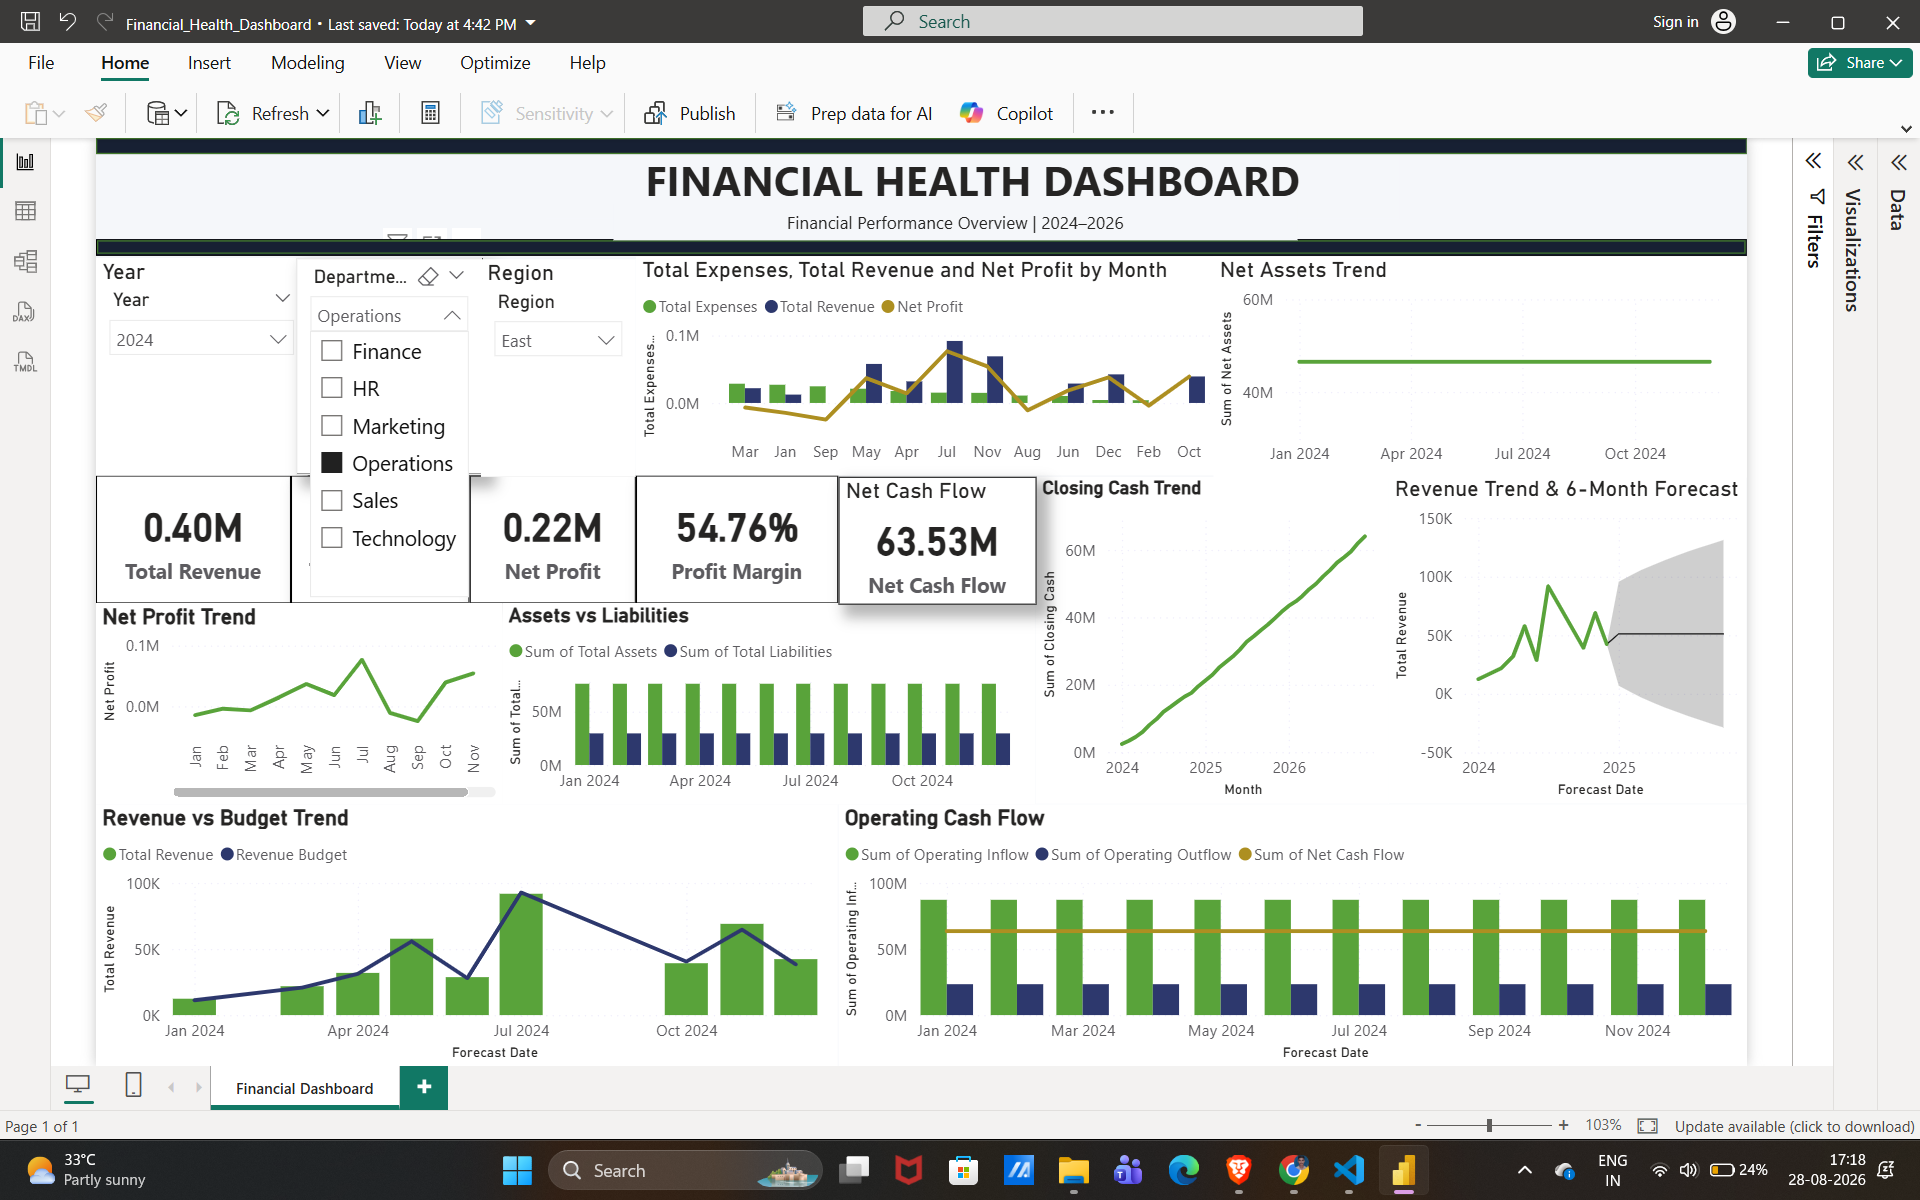

What the dashboard file says about the page in this screenshot:
{"tool":"powerbi","page":{"name":"Financial Dashboard","canvas":[1280,720],"ordinal":0},"visuals":[{"type":"card","fields":{"Values":["Financial Measures.Total Revenue"]},"box":[0,261.6,151.2,98.8],"z":0},{"type":"card","fields":{"Values":["Financial Measures.Total Expenses"]},"box":[151.2,261.6,138.4,98.8],"z":1000},{"type":"card","fields":{"Values":["Financial Measures.Net Profit"]},"box":[289.5,261.6,129.1,98.8],"z":2000},{"type":"card","fields":{"Values":["Financial Measures.Profit Margin"]},"box":[418.6,261.6,157,98.8],"z":3000},{"type":"slicer","title":"Year","fields":{"Values":["DimDate.Year"]},"box":[0,93,164,168.6],"z":4000},{"type":"lineClusteredColumnComboChart","fields":{"Category":["DimDate.Month"],"Y":["Financial Measures.Total Expenses","Financial Measures.Total Revenue"],"Y2":["Financial Measures.Net Profit"]},"box":[418.6,91.9,459.3,169.8],"z":5000},{"type":"lineChart","title":" Net Profit Trend","fields":{"Category":["DimDate.Month"],"Y":["Financial Measures.Net Profit"]},"box":[0,360.5,315.1,155.8],"z":6000},{"type":"clusteredColumnChart","title":"Assets vs Liabilities","fields":{"Y":["Sum(BalanceSheet.Total Assets)","Sum(BalanceSheet.Total Liabilities)"],"Category":["DimDate.Forecast Date"]},"box":[315.1,360.5,414,155.8],"z":7000},{"type":"lineChart","title":"Net Assets Trend","fields":{"Y":["Sum(BalanceSheet.Net Assets)"],"Category":["DimDate.Forecast Date"]},"box":[866.3,91.9,414,170.9],"z":8000},{"type":"lineClusteredColumnComboChart","title":"Operating Cash Flow","fields":{"Y":["Sum(CashFlow.Operating Inflow)","Sum(CashFlow.Operating Outflow)"],"Y2":["Sum(CashFlow.Net Cash Flow)"],"Category":["DimDate.Forecast Date"]},"box":[575.6,516.3,704.7,203.5],"z":9000},{"type":"lineChart","title":"Closing Cash Trend","fields":{"Category":["CashFlow.Month.Variation.Date Hierarchy.Month"],"Y":["Sum(CashFlow.Closing Cash)"]},"box":[729.1,262.8,273.3,253.5],"z":10000},{"type":"card","title":"Net Cash Flow","fields":{"Values":["Sum(CashFlow.Net Cash Flow)"]},"box":[575.6,262.8,153.5,98.8],"z":11000},{"type":"slicer","title":"Department","fields":{"Values":["DimDepartment.Department"]},"box":[154.9,93.5,144.5,168.4],"z":12000},{"type":"slicer","title":"Region","fields":{"Values":["DimRegion.Region"]},"box":[298.8,94.2,119.8,168.6],"z":13000},{"type":"lineClusteredColumnComboChart","title":"Revenue vs Budget Trend","fields":{"Y":["Financial Measures.Total Revenue"],"Y2":["Financial Measures.Revenue Budget"],"Category":["DimDate.Forecast Date"]},"box":[0,516.3,575.6,203.5],"z":14000},{"type":"lineChart","title":"Revenue Trend & 6-Month Forecast","fields":{"Y":["Financial Measures.Total Revenue"],"Category":["DimDate.Forecast Date"]},"box":[1002.3,261.6,277.9,254.7],"z":15000},{"type":"textbox","box":[348.8,5.8,661.6,57],"z":16000},{"type":"shape","box":[0,0,1280.4,12.5],"z":17000},{"type":"shape","box":[0,79,1280.4,12.5],"z":18000},{"type":"textbox","box":[401.2,51.2,530.2,27.9],"z":18001}]}

Visuals, with their boxes on the page's 1280x720 design canvas (x1, y1, x2, y2). These are canvas units, not pixel positions in the 1920x1200 screenshot, which may show the page scaled, cropped or inside an application window:
card - Financial Measures.Total Revenue: bbox=[0, 262, 151, 360]
card - Financial Measures.Total Expenses: bbox=[151, 262, 290, 360]
card - Financial Measures.Net Profit: bbox=[290, 262, 419, 360]
card - Financial Measures.Profit Margin: bbox=[419, 262, 576, 360]
"Year" slicer: bbox=[0, 93, 164, 262]
lineClusteredColumnComboChart - DimDate.Month x Financial Measures.Total Expenses: bbox=[419, 92, 878, 262]
" Net Profit Trend" lineChart: bbox=[0, 360, 315, 516]
"Assets vs Liabilities" clusteredColumnChart: bbox=[315, 360, 729, 516]
"Net Assets Trend" lineChart: bbox=[866, 92, 1280, 263]
"Operating Cash Flow" lineClusteredColumnComboChart: bbox=[576, 516, 1280, 720]
"Closing Cash Trend" lineChart: bbox=[729, 263, 1002, 516]
"Net Cash Flow" card: bbox=[576, 263, 729, 362]
"Department" slicer: bbox=[155, 94, 299, 262]
"Region" slicer: bbox=[299, 94, 419, 263]
"Revenue vs Budget Trend" lineClusteredColumnComboChart: bbox=[0, 516, 576, 720]
"Revenue Trend & 6-Month Forecast" lineChart: bbox=[1002, 262, 1280, 516]
textbox: bbox=[349, 6, 1010, 63]
shape: bbox=[0, 0, 1280, 12]
shape: bbox=[0, 79, 1280, 92]
textbox: bbox=[401, 51, 931, 79]
